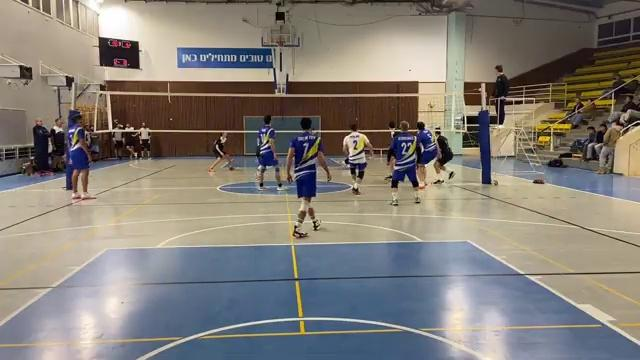ball: (428, 100, 440, 111)
